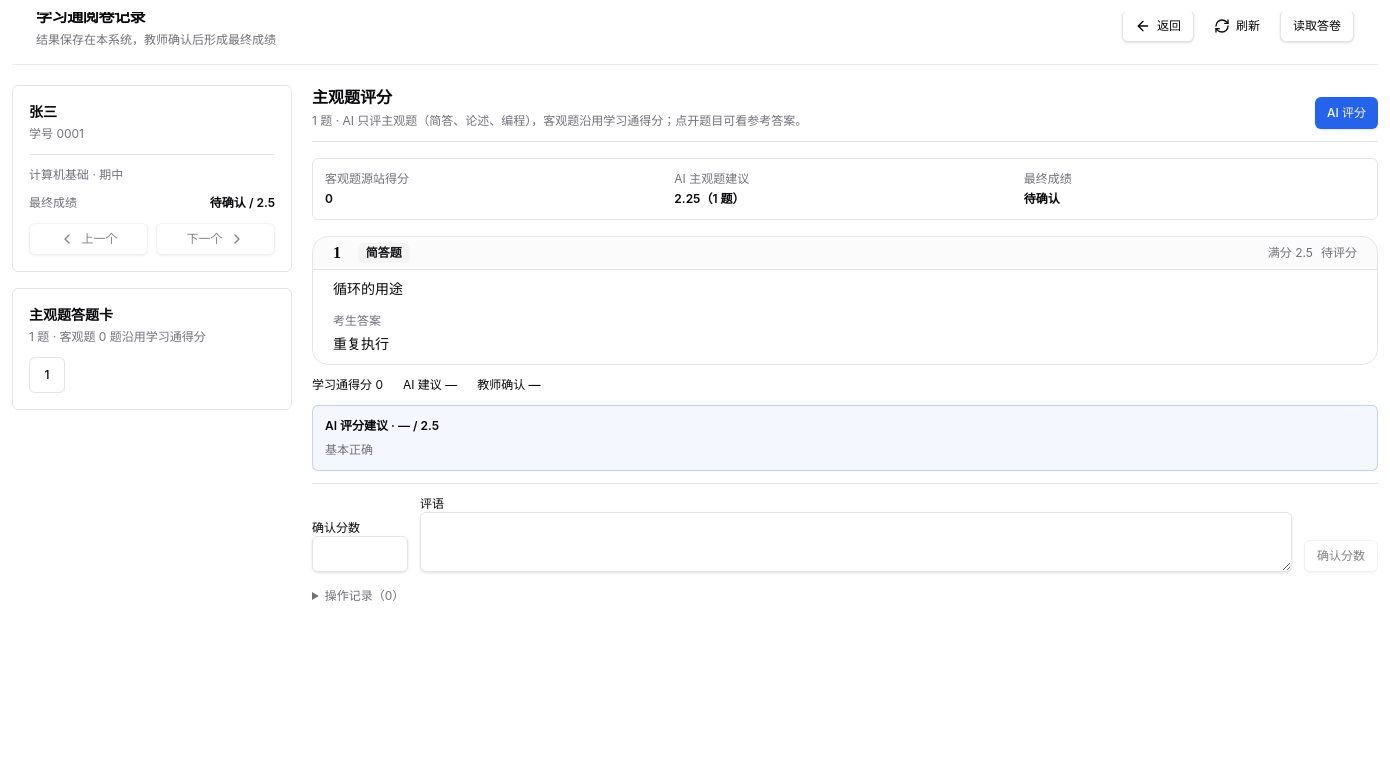
Test case: 学习通结果复核 › 评分排队时阻止重复提交并轮询到结果
This screenshot has width=1390, height=780.
Click the button "AI 评分": click(1346, 113) [1315,97,1378,129]
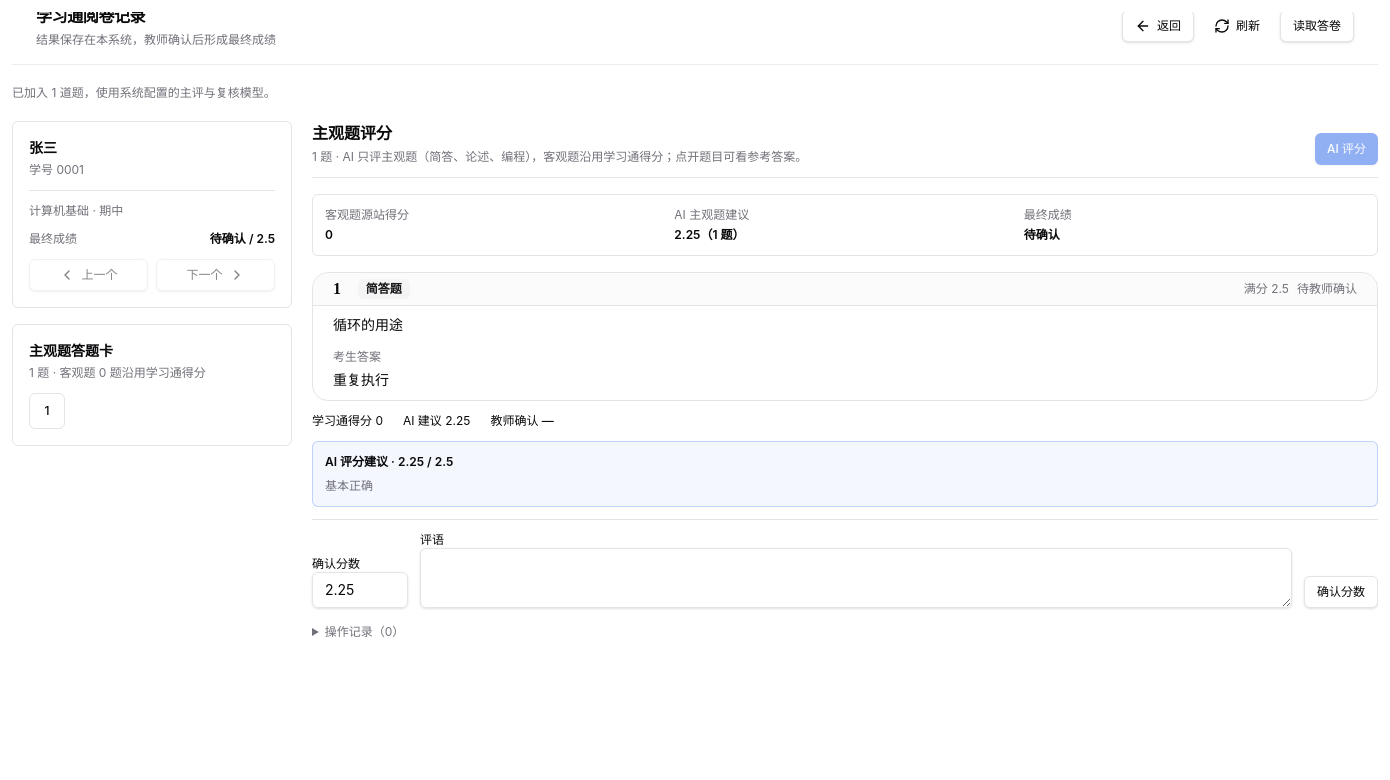
Expected: the button "AI 评分" is disabled, [1315,133,1378,165]
Expected: the text "待教师确认" is shown, [1297,281,1357,297]
